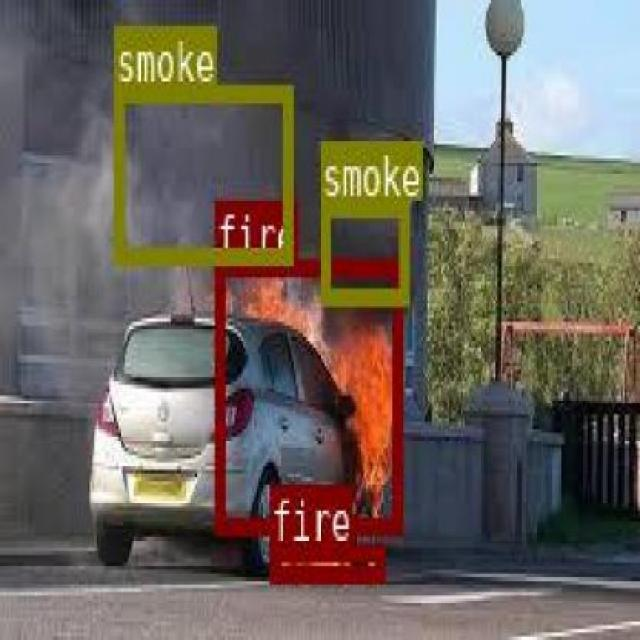Fire: (213, 257, 399, 531), (268, 542, 383, 580)
Smoke: (113, 83, 292, 260), (318, 198, 406, 300)
